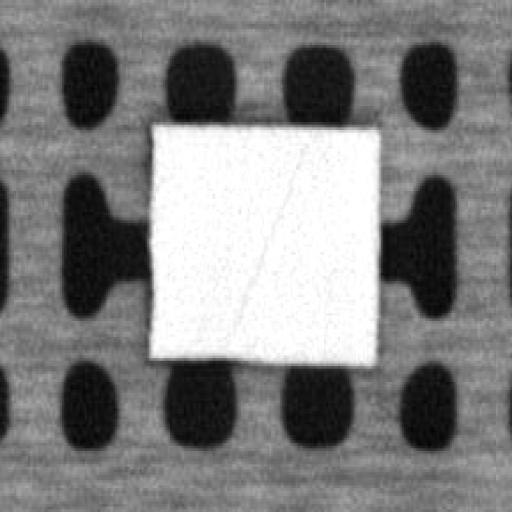DIE_CRACK: (227, 141, 306, 337)
